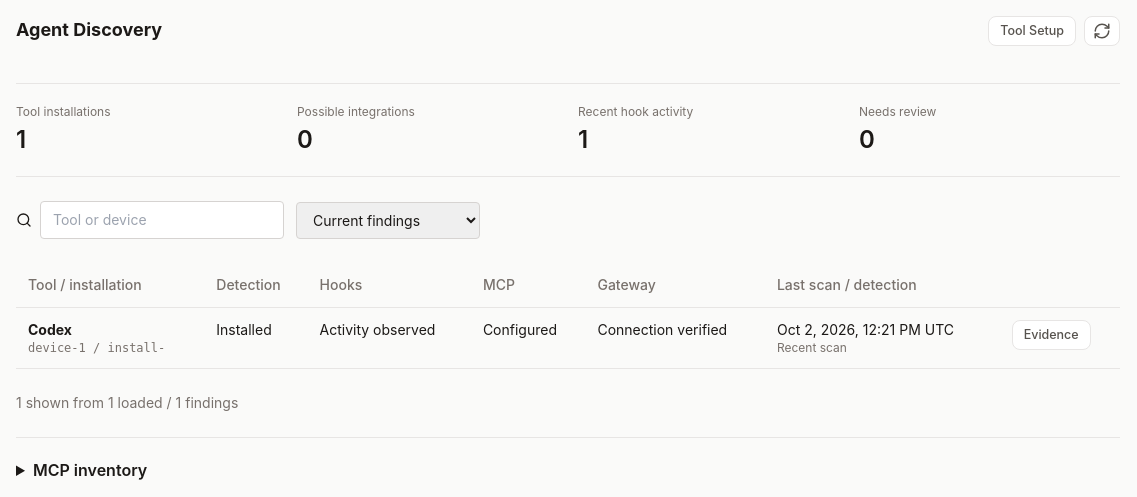
discovery evidence › filters loaded findings
Expected: the text "Codex" is shown, left=28, top=321, right=72, bottom=338
Type "missing" into the field named "Search tool or device" at (162, 220), box left=40, top=201, right=284, bottom=239
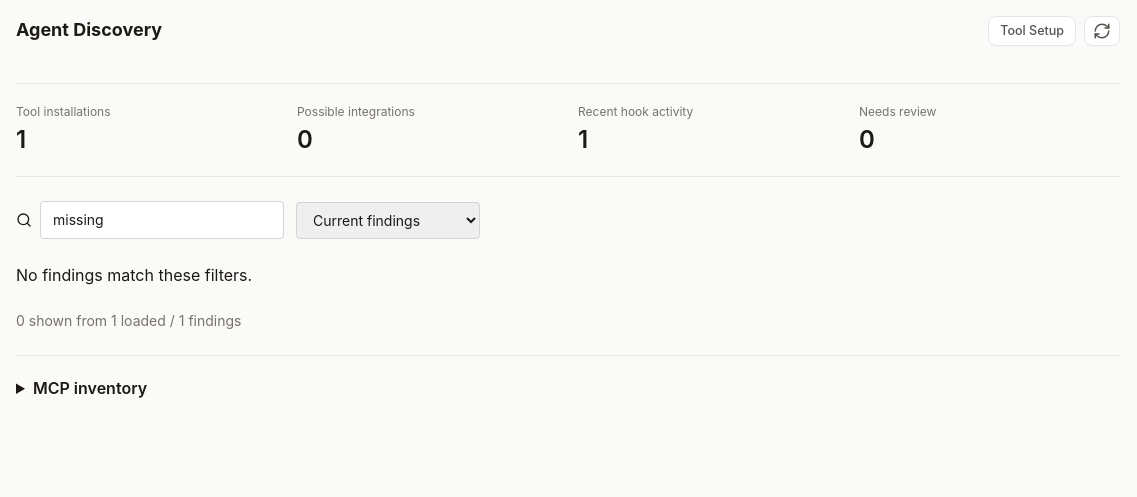
Result: the text "No findings match these filters." is shown at left=16, top=265, right=252, bottom=285
Replace the text in the field named "Search tool or device" with "device-1" at (162, 220), box left=40, top=201, right=284, bottom=239
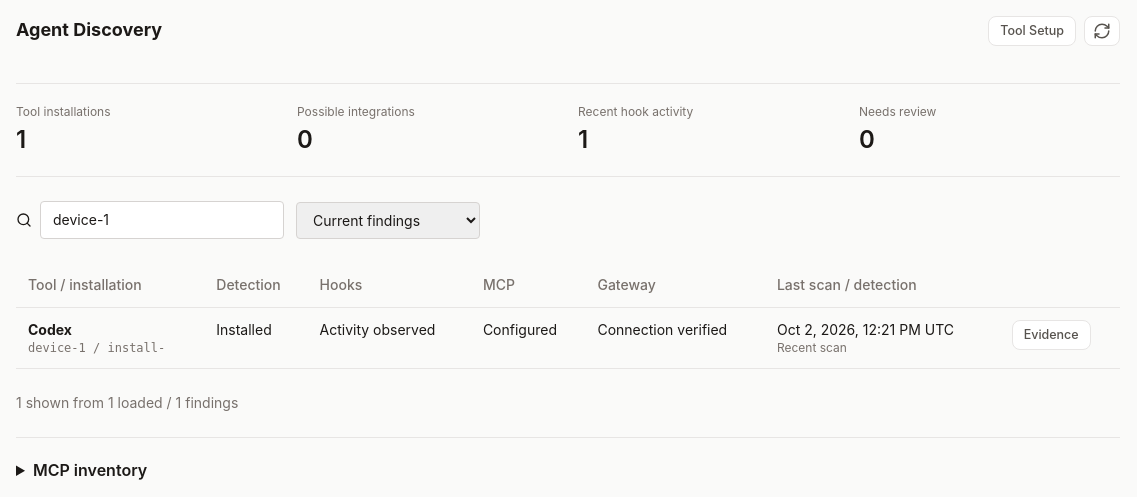
Result: the text "Codex" is shown at left=28, top=321, right=72, bottom=338
